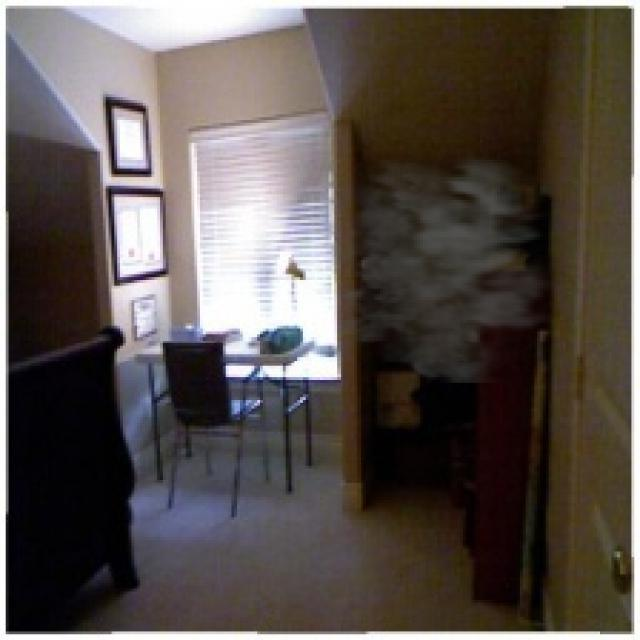Smoke: (311, 137, 566, 383)
